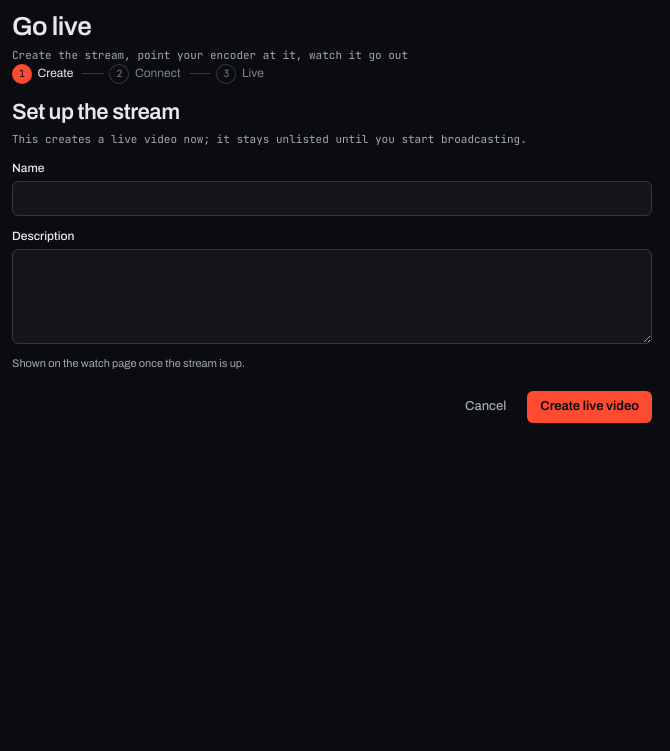
Go live wizard › shows the create error with a retry when the POST fails
Type "Live from the closet" into the field labelled "Name" at [332, 198], box [12,181,652,216]
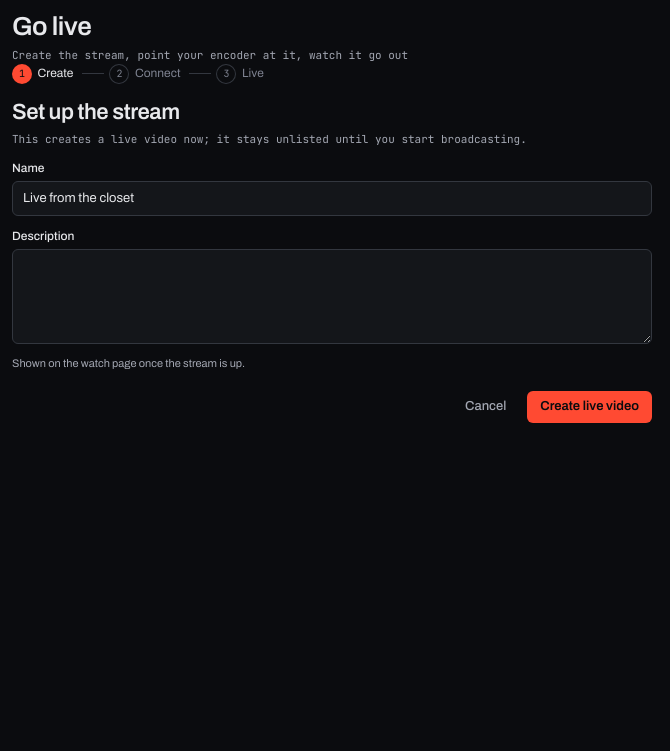
Type "Sitting with the queue while the encoder works." into the text box labelled "Description" at [332, 297], box [12,249,652,344]
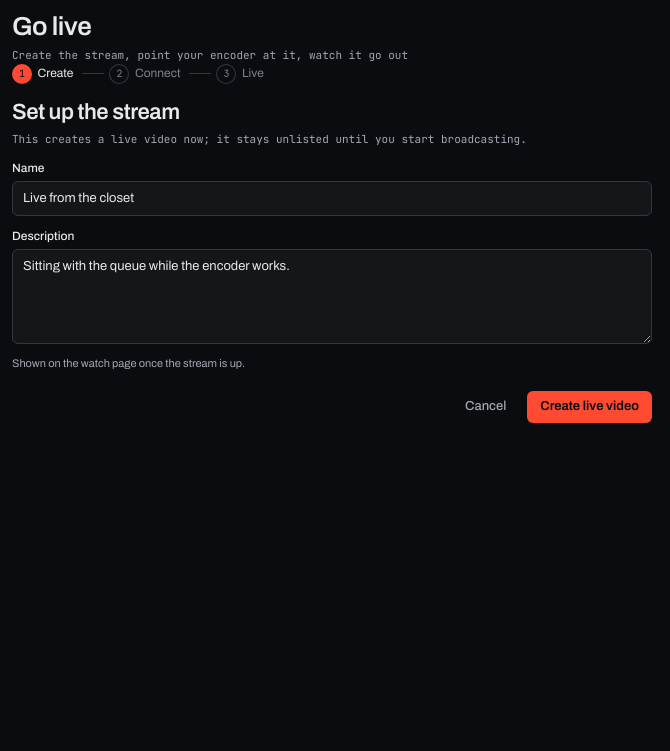
Click the button "Create live video" at [590, 407], box [527,391,652,423]
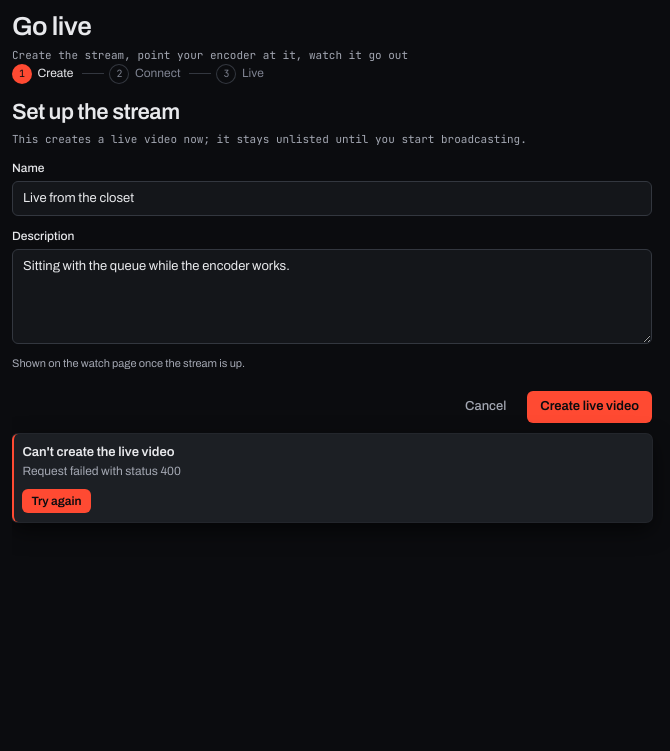
expect the message "Can't create the live video Request failed with status 400 Try again" is shown: met, box [12,434,652,522]
Click the button "Try again" at [56, 501], box [22,489,91,514]
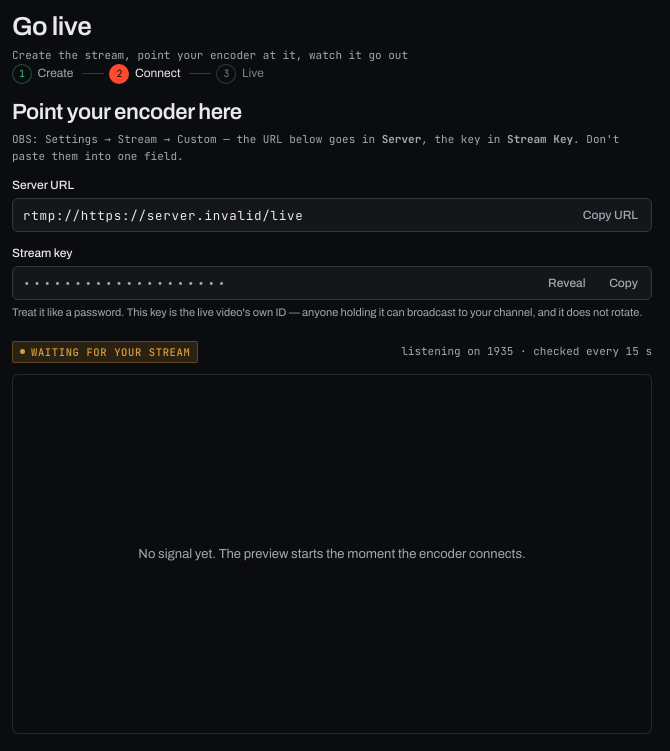
expect the heading "Point your encoder here" is shown: met, box [12,100,242,124]
